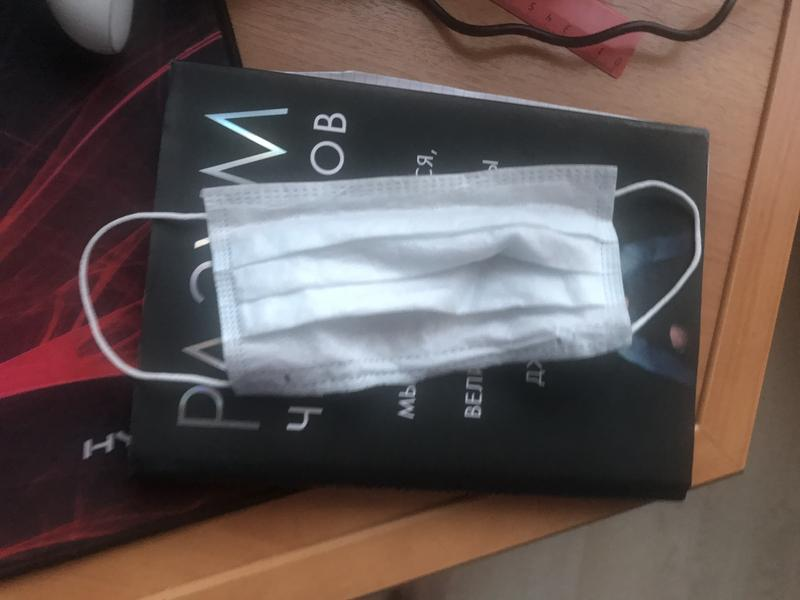medical_mask: (80, 161, 704, 400)
